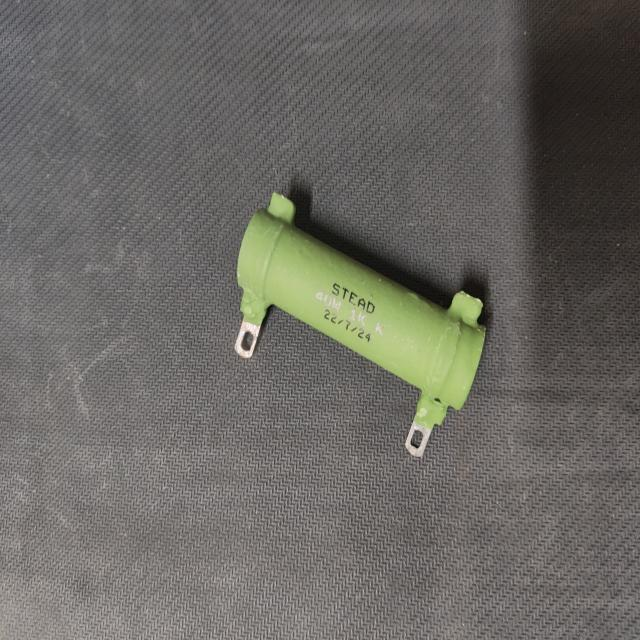resistor: (221, 181, 492, 468)
